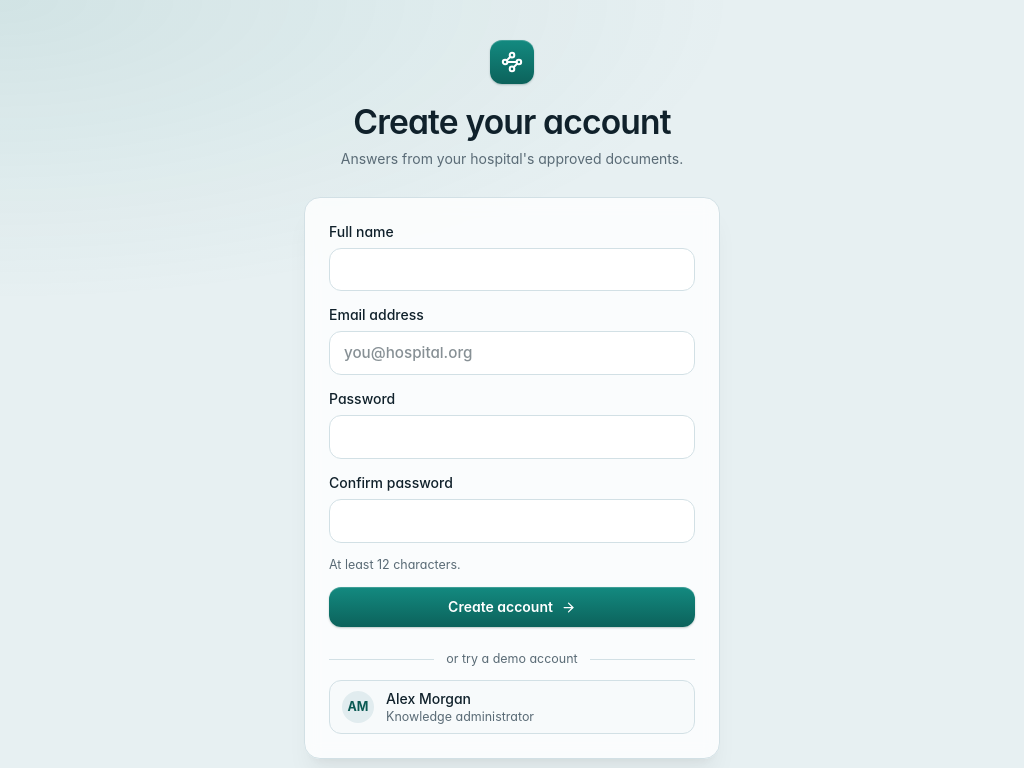
Scenario: staff can register and enter the authenticated app
Type "New Staff" into the field labelled "Full name". click: [512, 270]
box: [329,248,695,292]
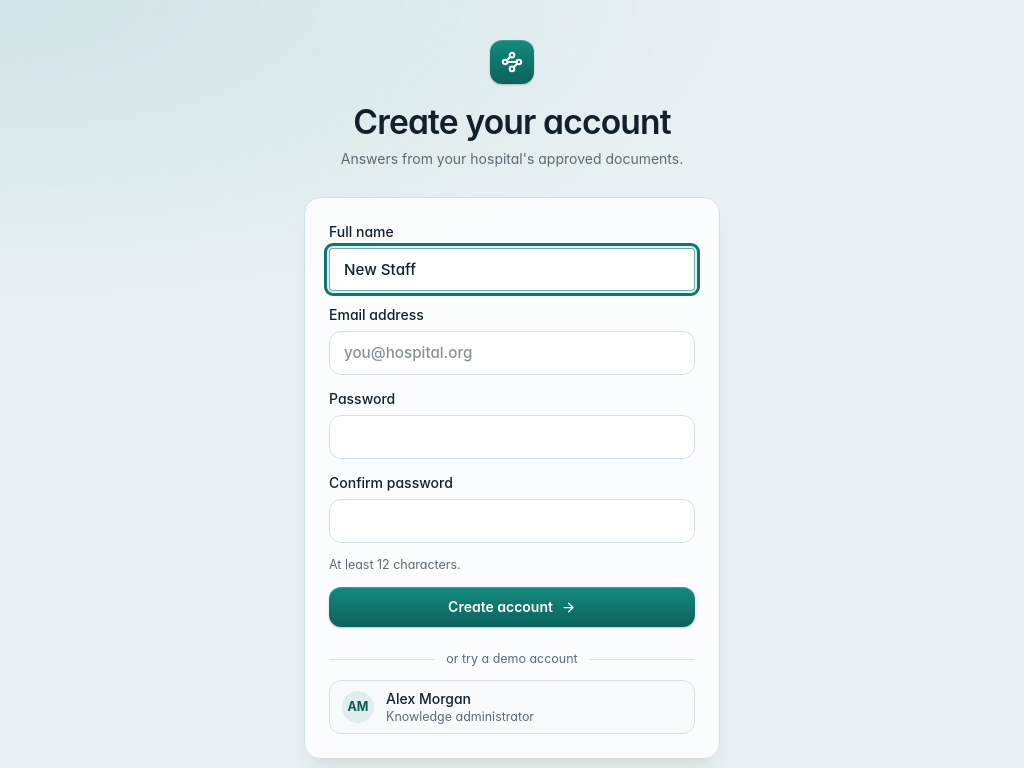
Type "staff@example.test" into the field labelled "Email address". click: [512, 353]
box: [329,332,695,375]
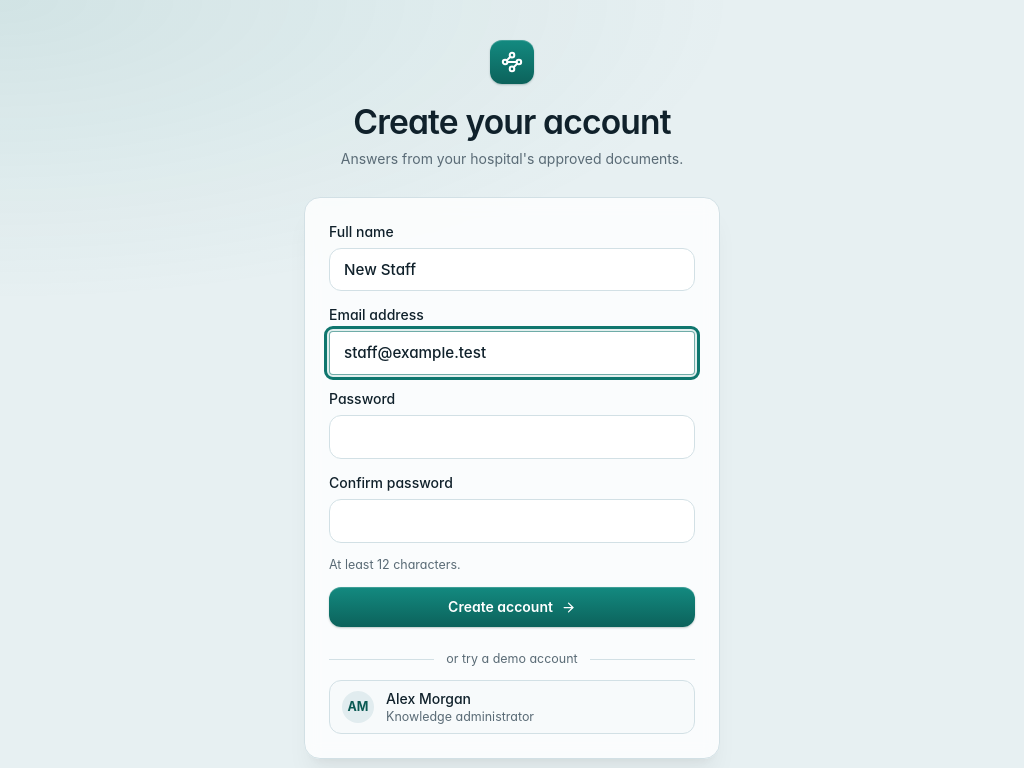
Type "a strong password" into the password field labelled "Password". click: [512, 437]
box: [329,415,695,459]
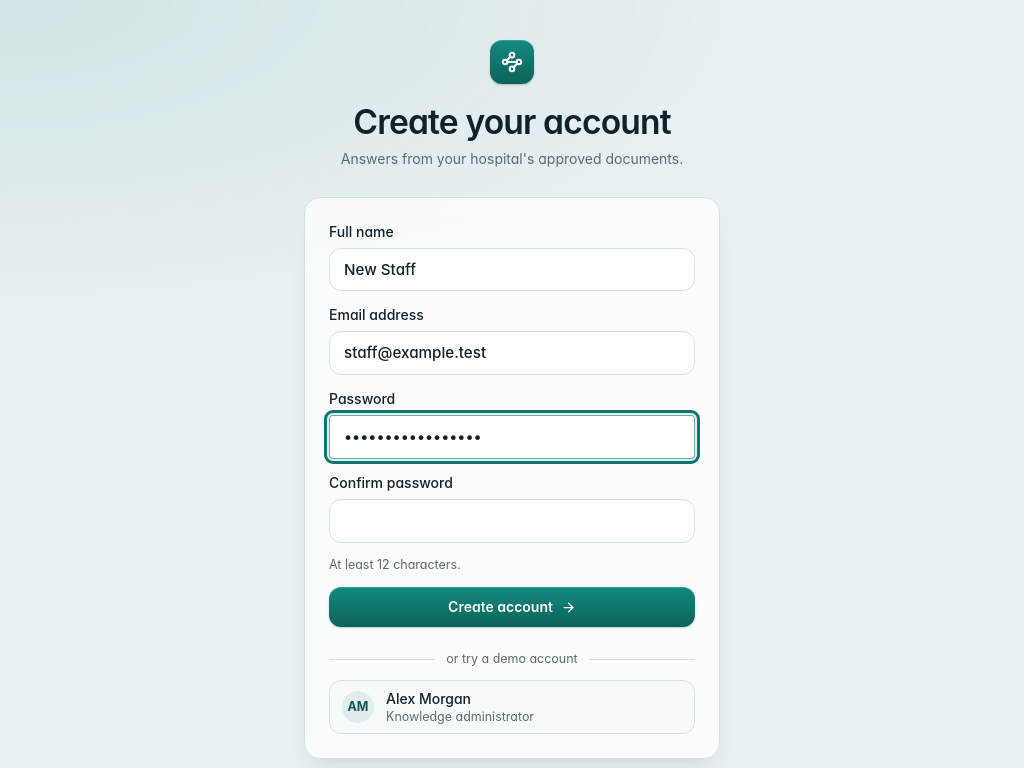
Type "a strong password" into the password field labelled "Confirm password". click: [512, 521]
box: [329,499,695,542]
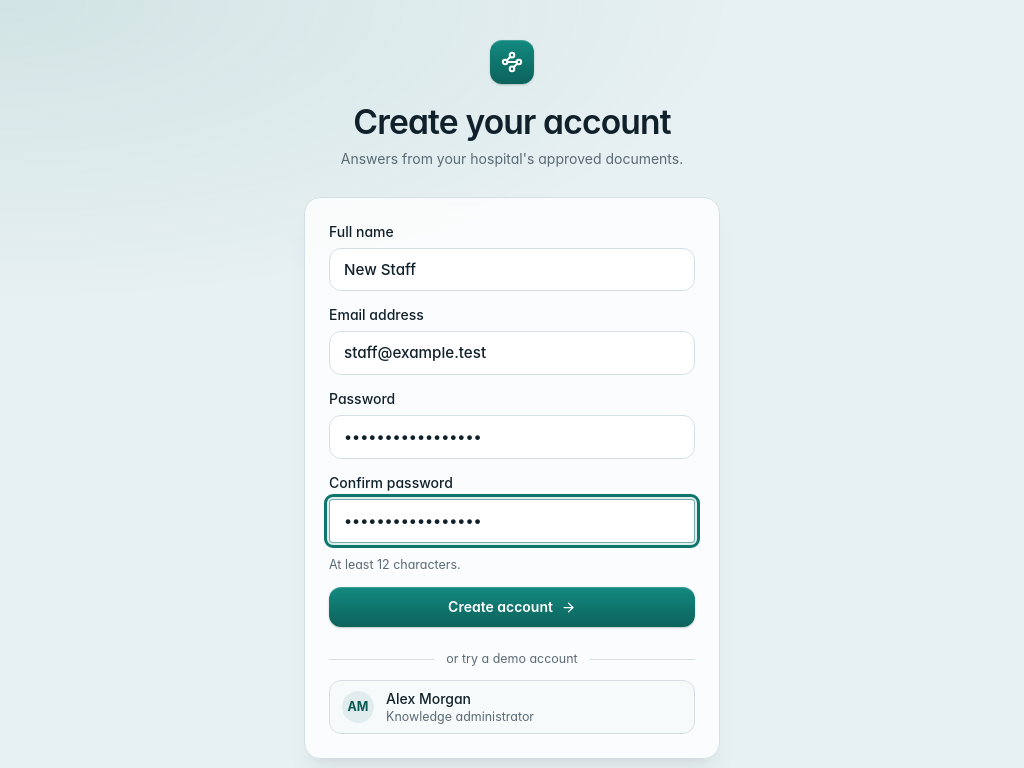
Click the button "Create account". click: [512, 607]
box: [329,587,695,627]
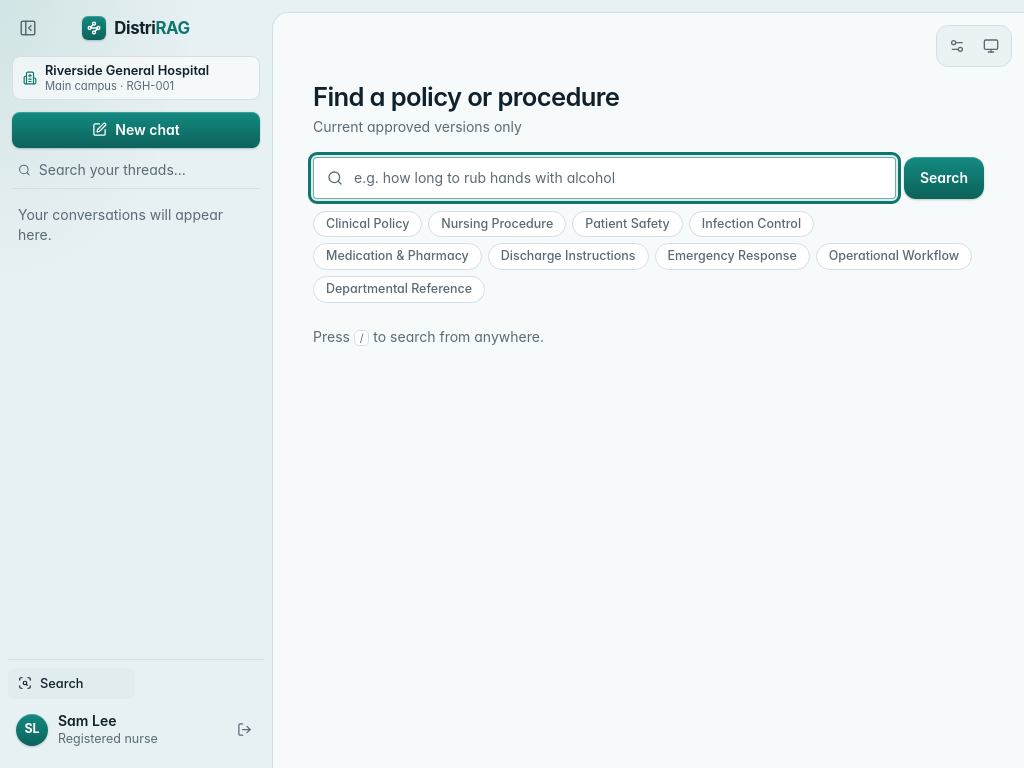
expect the search field named "Search approved documents" is shown: met, box [313,157,896,199]
